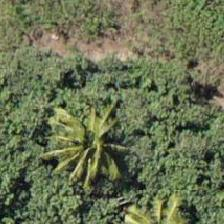coconut_tree: (55, 106, 145, 196)
